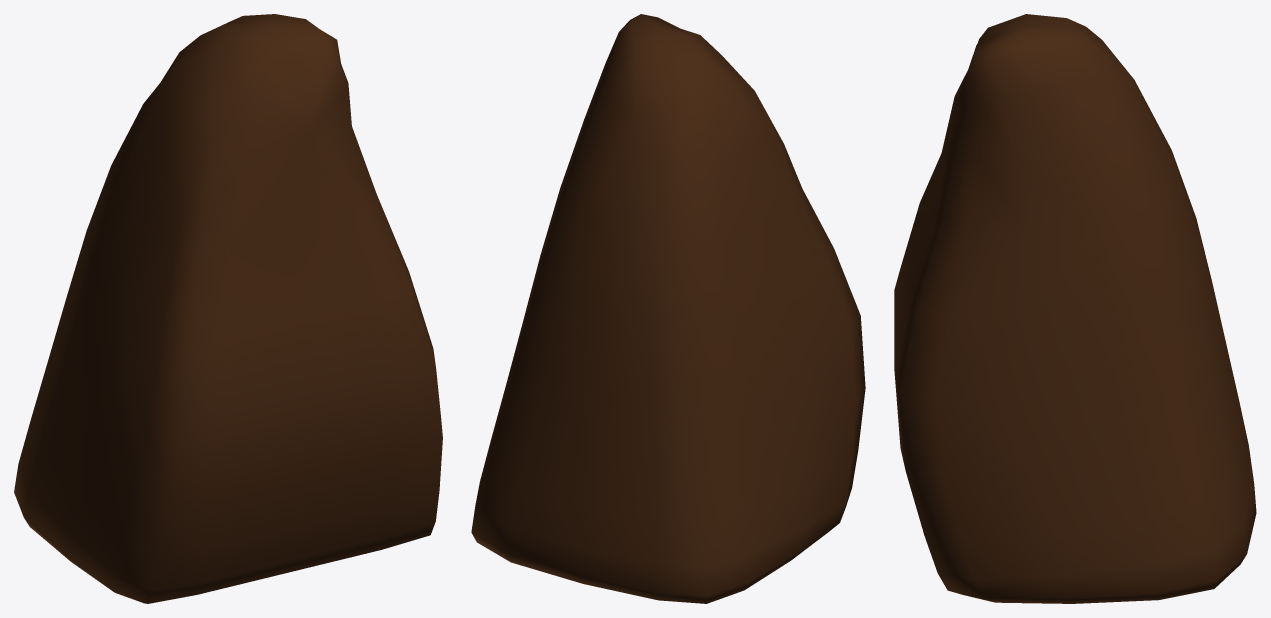
The model's file is rock_5.fbx.
3 renders of one model, left to right at view 1: azimuth 30°, elevation 25°; view 2: azimuth 150°, elevation 25°; view 3: azimuth 270°, elevation 25°, orthographic. The views are drawn at different scales.
Parts seen in each view (by area): view 1: Cube.002; view 2: Cube.002; view 3: Cube.002.
Part boxes in pixels (<box>): Cube.002: <box>14,14,442,603</box>; Cube.002: <box>471,14,865,603</box>; Cube.002: <box>894,14,1256,603</box>.
Bounding box in the file's own units: 48.86 × 75.23 × 47.94.
